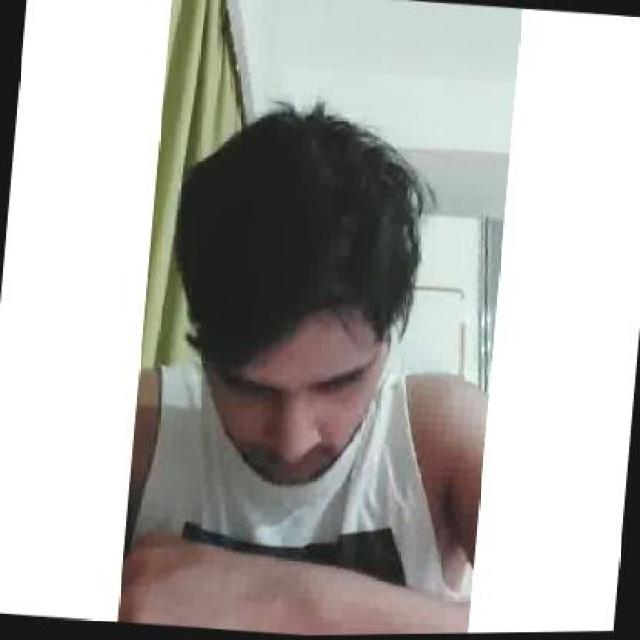inattentif: (157, 101, 415, 498)
